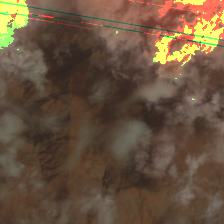landslides: (129, 23, 150, 35)
